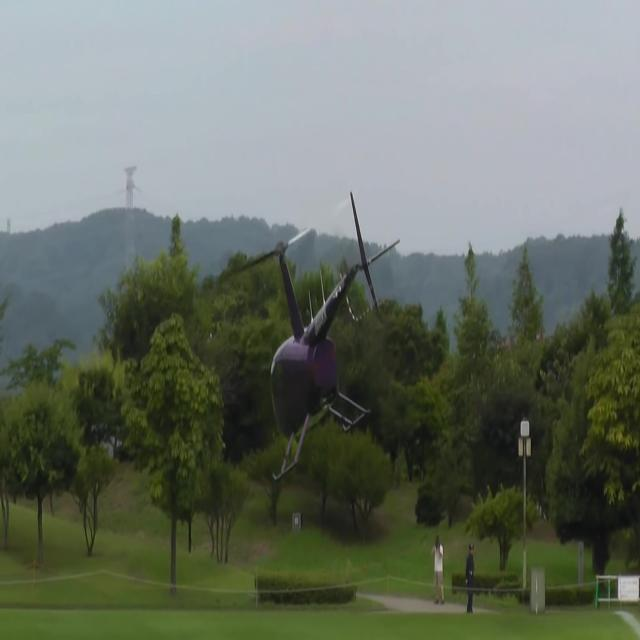CIV_HELO: (268, 190, 403, 483)
